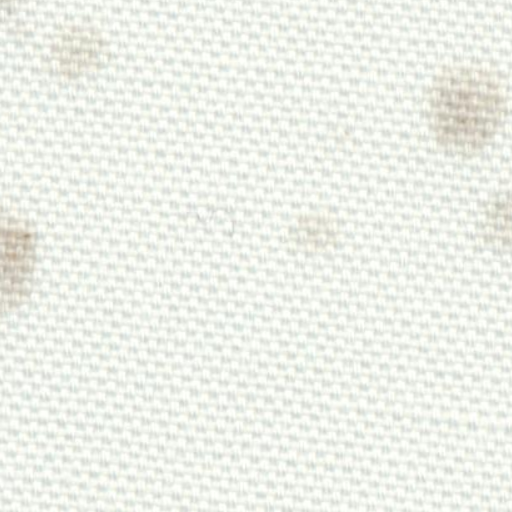WuZi: (421, 38, 505, 166), (36, 11, 130, 89), (280, 190, 365, 266), (0, 210, 45, 326), (458, 179, 508, 266)
